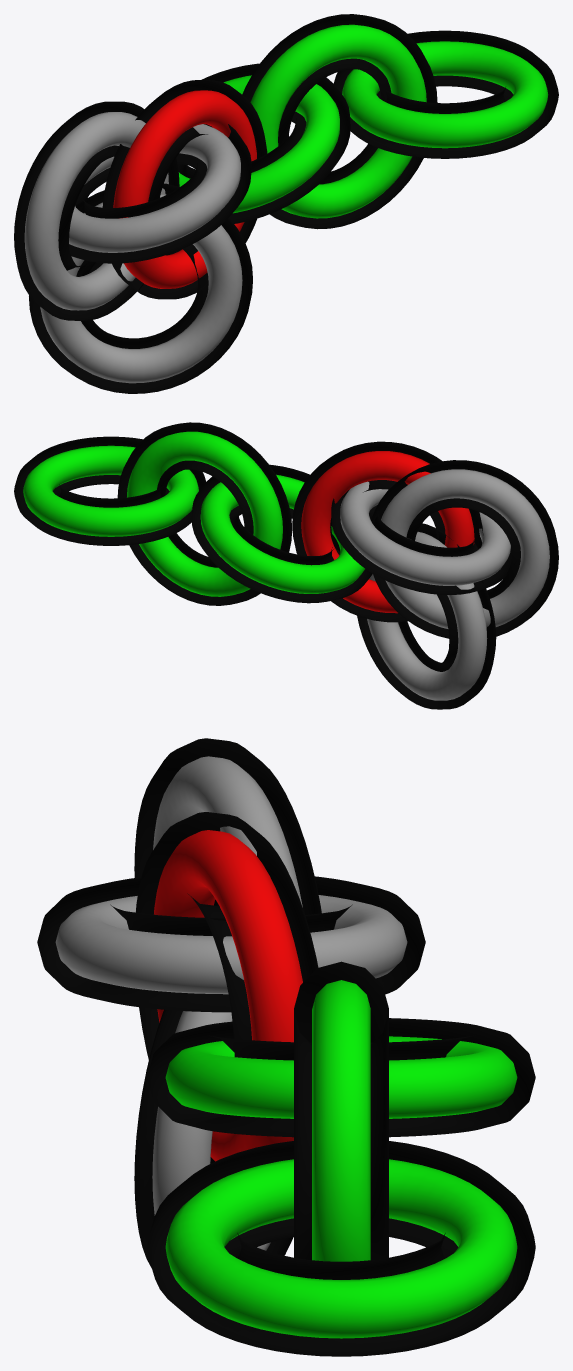
Rendered from charmed_step_04.glb.
The picture shows the model from 3 angles, top to bottom: view 1: azimuth 30°, elevation 25°; view 2: azimuth 150°, elevation 25°; view 3: azimuth 270°, elevation 25°; orthographic projection. The views are drawn at different scales.
Parts seen in each view (by area): view 1: Torus.002, Torus.1269, Torus.1267, Torus.1265, Torus.1268, Torus.1266, Torus.001; view 2: Torus.1265, Torus.002, Torus.1269, Torus.001, Torus.1266, Torus.1267, Torus.1268; view 3: Torus.1269, Torus.001, Torus.1268, Torus.002, Torus.1266, Torus.1265, Torus.1267.
Part boxes in pixels (x1,y1,x2,y2): Torus.002: [242, 14, 437, 229]; Torus.1269: [333, 30, 558, 158]; Torus.1267: [29, 183, 252, 393]; Torus.1265: [14, 101, 179, 320]; Torus.1268: [66, 124, 251, 263]; Torus.1266: [102, 80, 267, 299]; Torus.001: [177, 63, 350, 223]; Torus.1265: [371, 460, 558, 638]; Torus.002: [117, 422, 292, 605]; Torus.1269: [14, 436, 205, 545]; Torus.001: [191, 464, 372, 603]; Torus.1266: [292, 441, 483, 622]; Torus.1267: [357, 523, 496, 709]; Torus.1268: [331, 481, 516, 594]; Torus.1269: [147, 1141, 535, 1356]; Torus.001: [147, 1018, 535, 1137]; Torus.1268: [37, 876, 425, 1012]; Torus.002: [294, 961, 388, 1261]; Torus.1266: [135, 812, 318, 1161]; Torus.1265: [134, 738, 324, 930]; Torus.1267: [134, 1009, 293, 1268].
Bounding box in the file's own units: 6.16 × 3.02 × 2.72.
